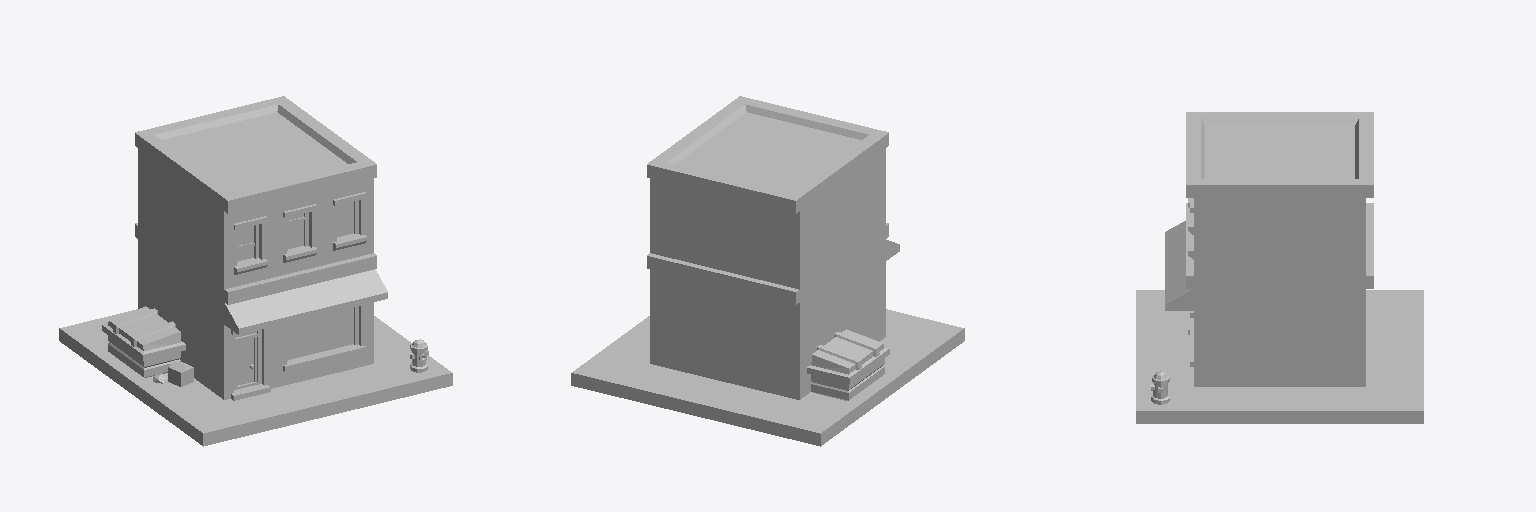
The model's file is building_A.obj.
3 views of the same model, side by side, from view 1: azimuth 30°, elevation 25°; view 2: azimuth 150°, elevation 25°; view 3: azimuth 270°, elevation 25° (orthographic).
Parts seen in each view (by area): view 1: building_A_Cube.938_texture_city; view 2: building_A_Cube.938_texture_city; view 3: building_A_Cube.938_texture_city.
Boxes of the visible parts, x1=… form: building_A_Cube.938_texture_city: x1=59, y1=96, x2=452, y2=446; building_A_Cube.938_texture_city: x1=571, y1=96, x2=964, y2=446; building_A_Cube.938_texture_city: x1=1136, y1=112, x2=1423, y2=423.
Bounding box in the file's own units: 10 × 8.25 × 10.